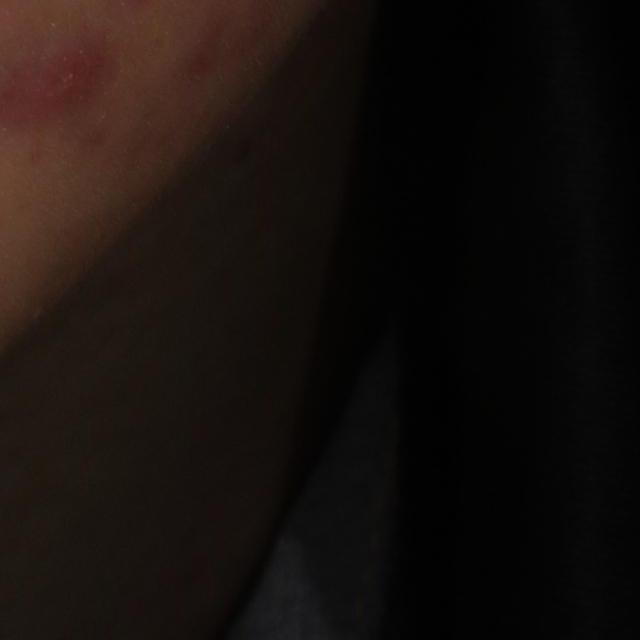papule: (13, 37, 103, 116)
